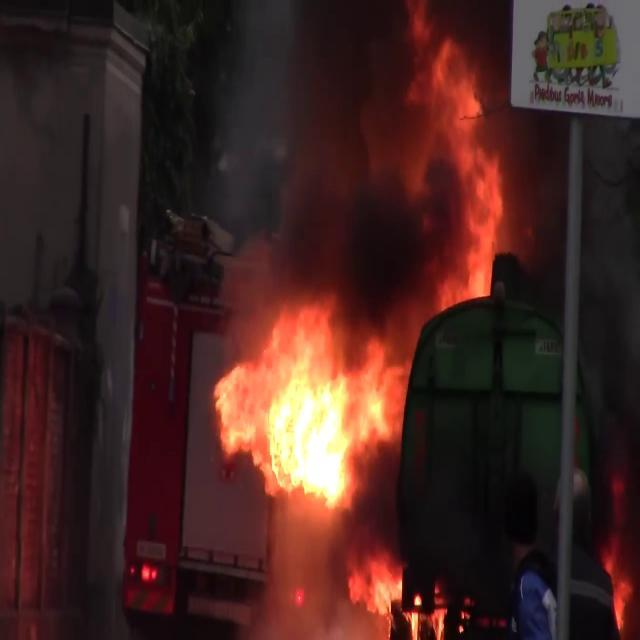Fire: (211, 300, 393, 506), (410, 31, 516, 305), (348, 544, 447, 638), (600, 528, 638, 636)
Smoke: (202, 0, 400, 304), (514, 116, 640, 555)
